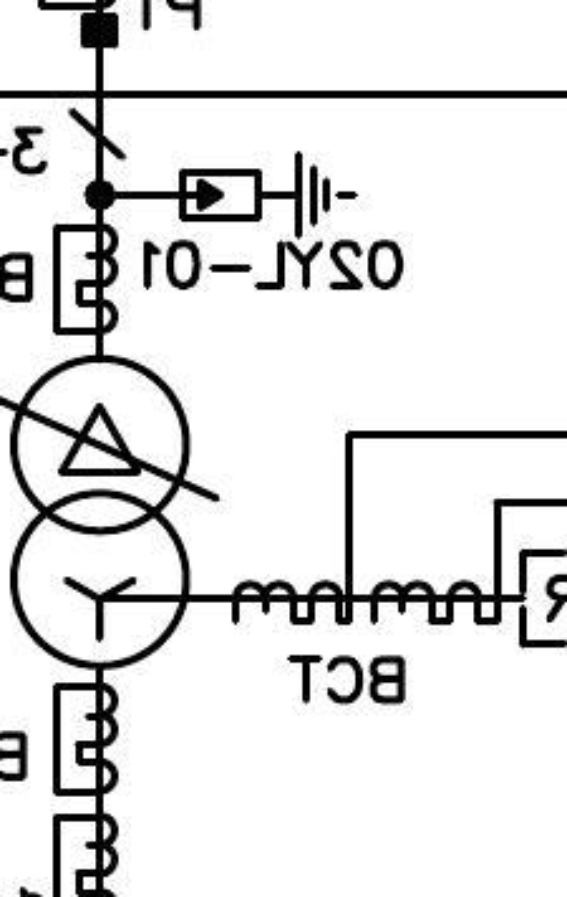11522_tx_dyn1: (8, 353, 192, 672)
115_la: (177, 148, 361, 242)
